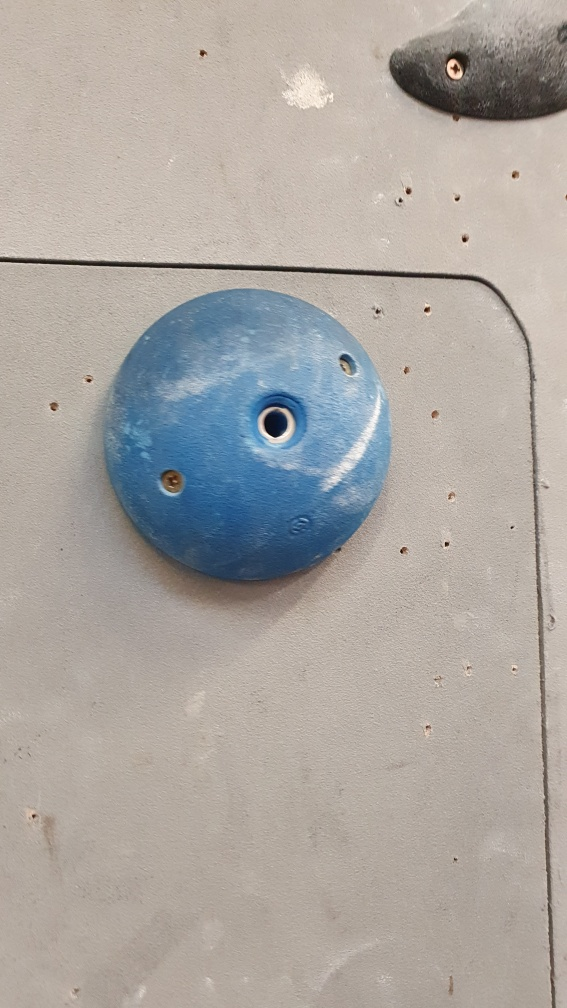Sloper: (99, 285, 396, 587)
